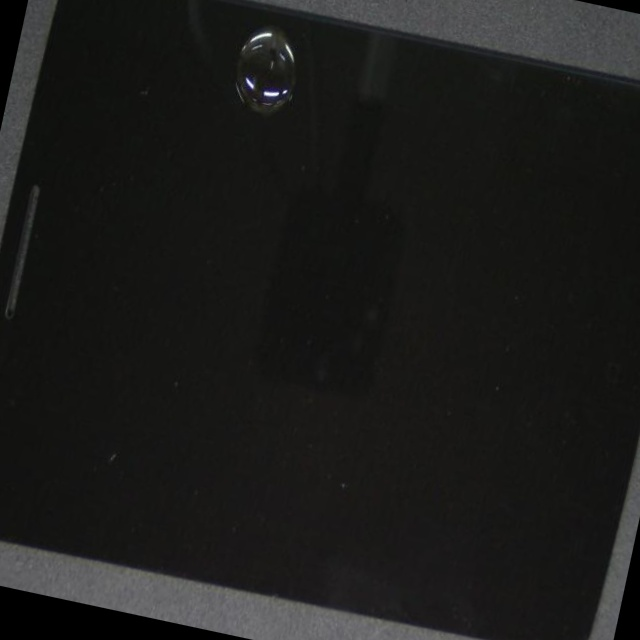oil: (169, 0, 417, 114)
